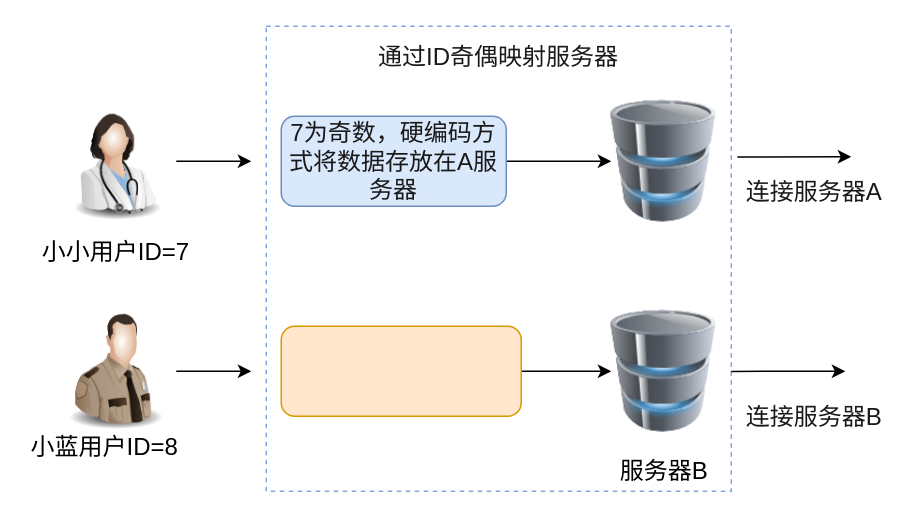
Some shapes in this 921 by 518 pixel diagram are drawn without their labels. The centre of each missing label's shape, as x and y in pixels:
8为偶数， 硬编码方式 将数据存放在B服务器: the point at 400,370
服务器A: the point at 663,161
